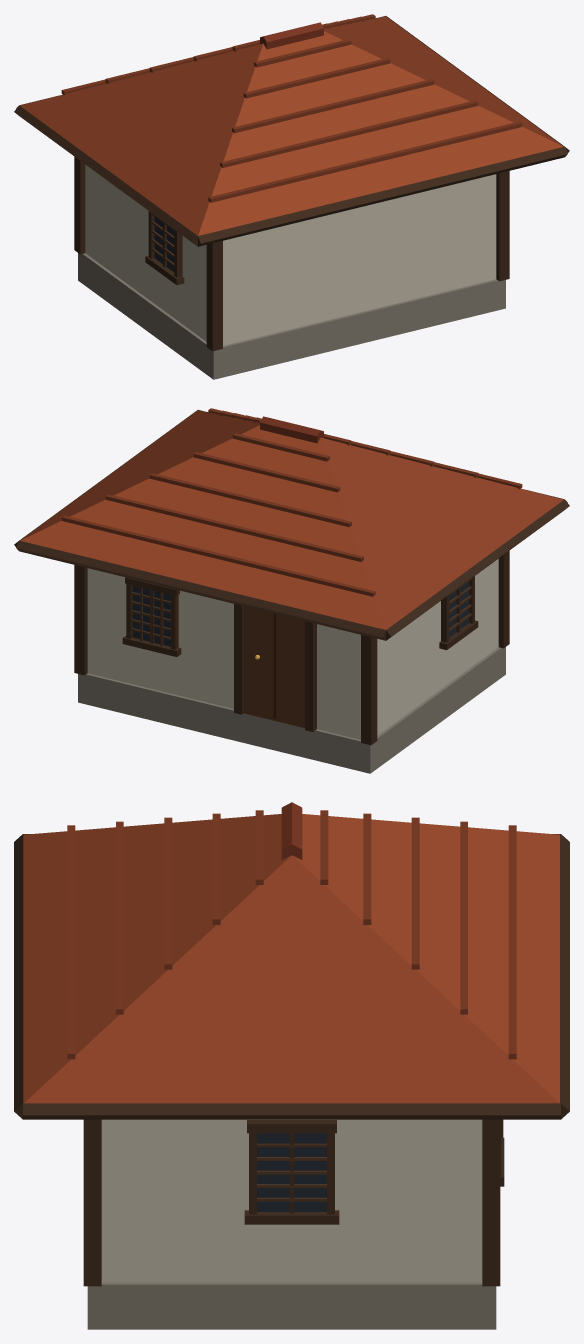
3 renders of one model, top to bottom at view 1: azimuth 30°, elevation 25°; view 2: azimuth 150°, elevation 25°; view 3: azimuth 270°, elevation 25°, orthographic. The views are drawn at different scales.
Parts seen in each view (by area): view 1: ev; view 2: ev; view 3: ev.
Part boxes in pixels (bbox=[...]): ev: bbox=[14, 14, 569, 379]; ev: bbox=[14, 408, 569, 773]; ev: bbox=[14, 802, 569, 1329].
Size of the model in its own units: 6.58 by 4.42 by 5.58.
